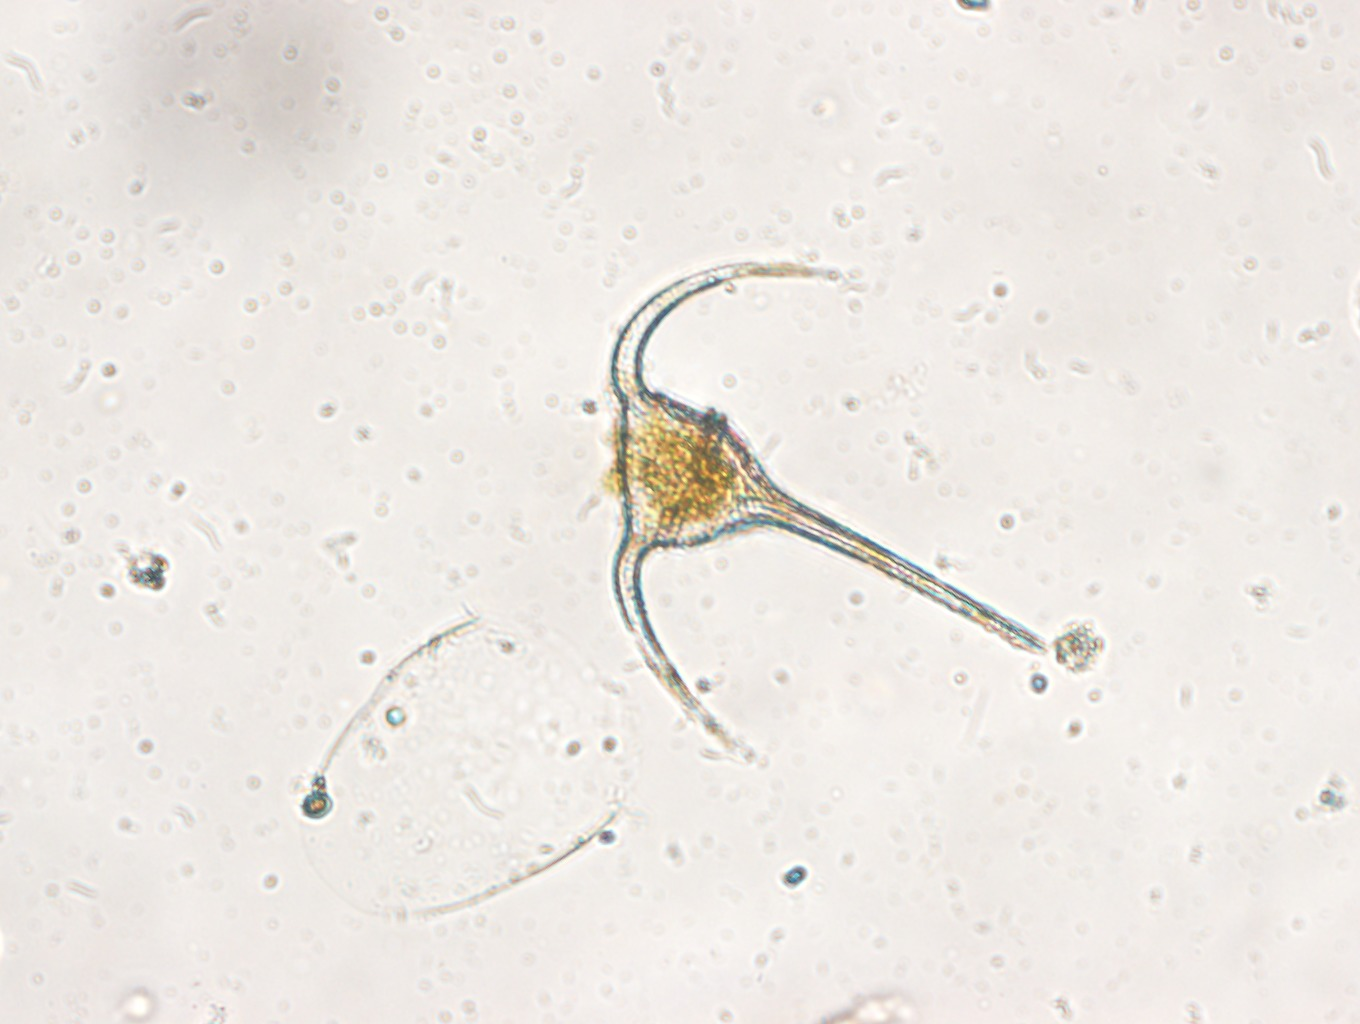ceratium trichoceros: (599, 248, 1056, 760)
